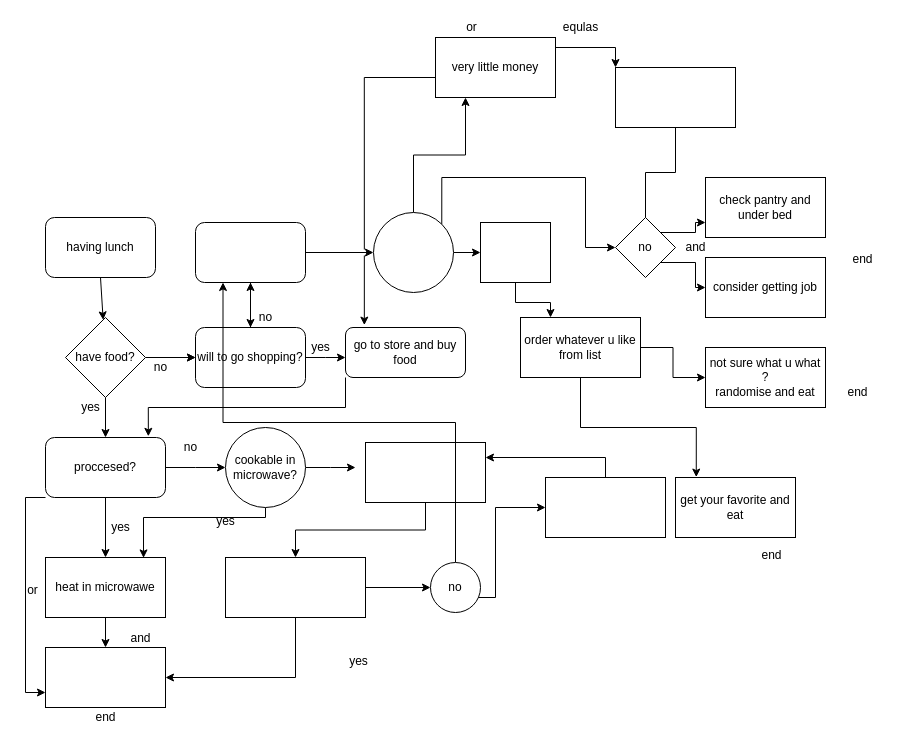
The diagram is 899 pixels wide and 744 high, and some of its shapes have lost their labels. The centre of each missing label's shape, as x and y in pixels:
"carry on with the stove" goes at (605,507).
"cooked good?" goes at (295,587).
"do u have money?" goes at (413,252).
"eat it" goes at (105,677).
"no money" goes at (675,97).
"order food delivery" goes at (250,252).
"use stove then, duh!" goes at (425,472).
"yes loads of" goes at (515,252).
